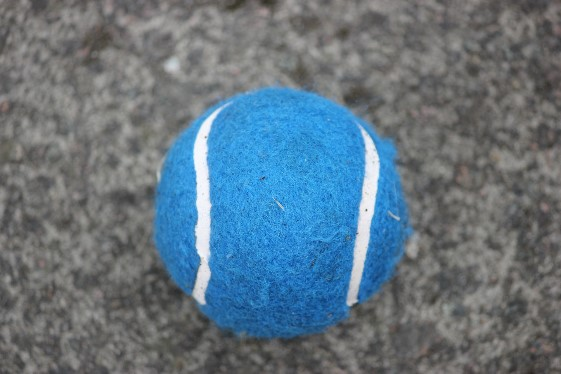blue ball: (154, 88, 411, 340)
